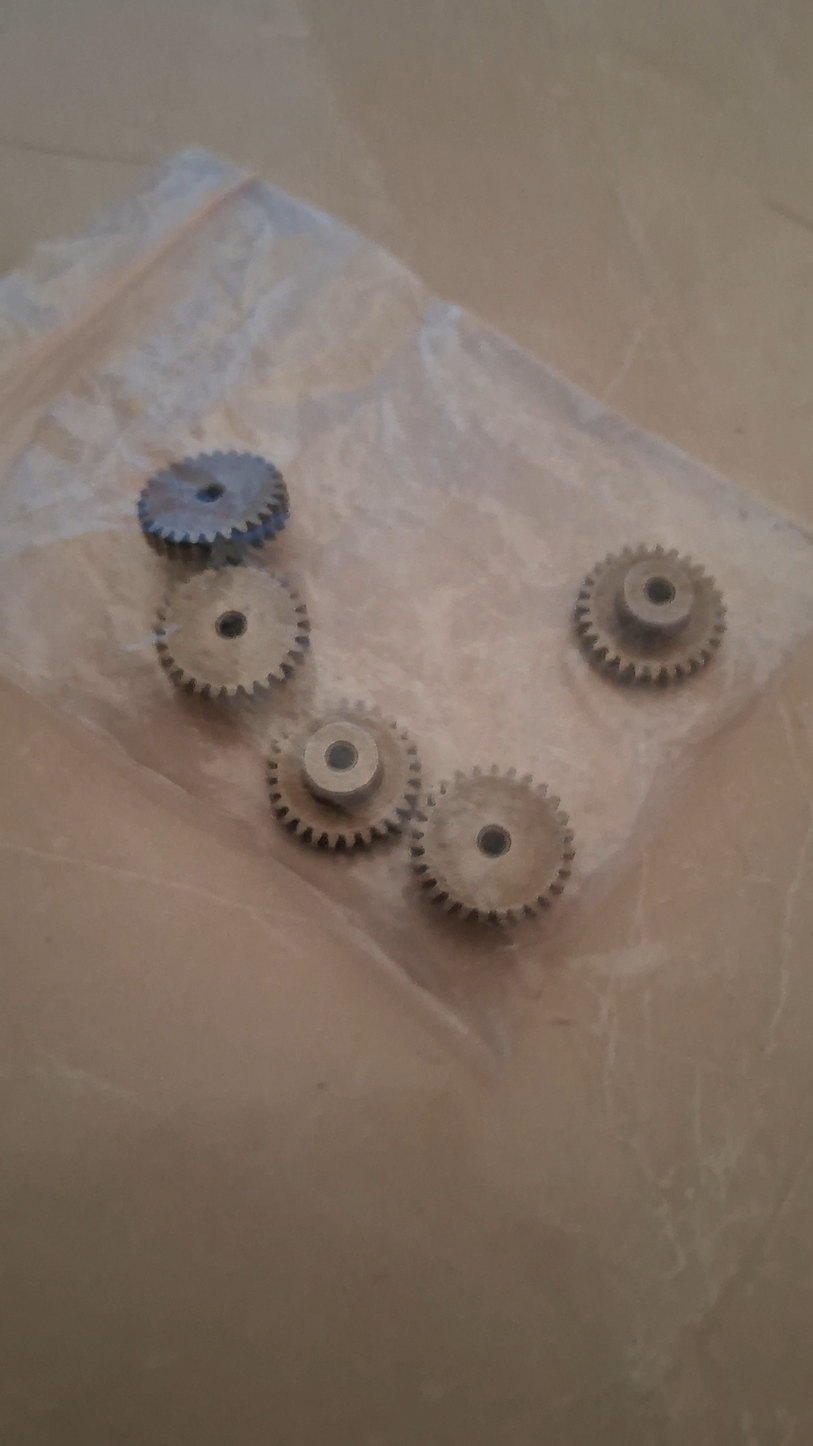spur gear: (410, 766, 574, 921), (268, 703, 420, 848), (574, 546, 725, 684), (156, 565, 309, 697), (138, 451, 288, 560)
